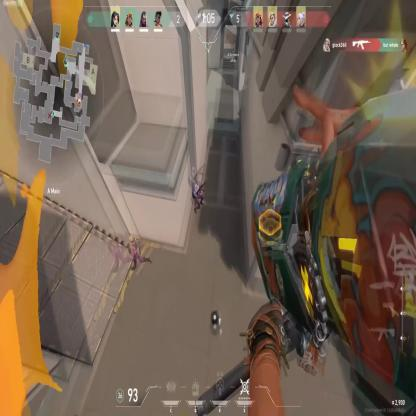enemy: (126, 234, 154, 272), (190, 182, 204, 214)
enemy_head: (128, 235, 136, 244), (195, 183, 198, 191)
